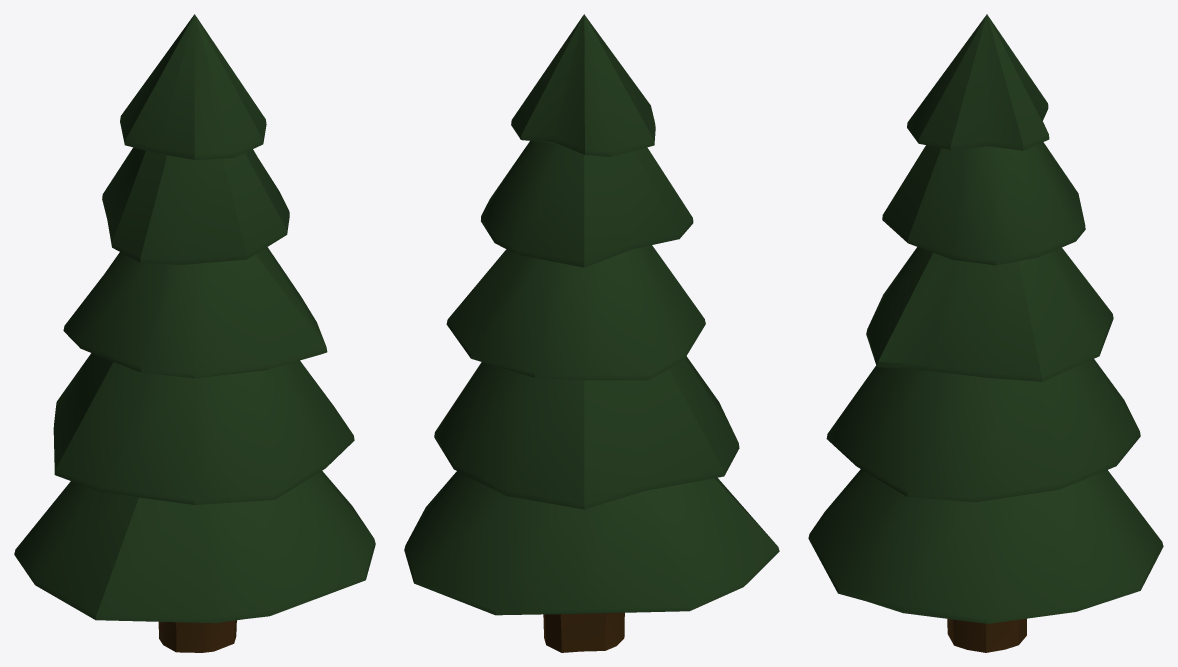
File: Gran_noir.fbx
The picture shows the model from 3 angles, left to right: view 1: azimuth 30°, elevation 25°; view 2: azimuth 150°, elevation 25°; view 3: azimuth 270°, elevation 25°; orthographic projection.
Visible parts, largest first — view 1: Treeeeeeeeeee; view 2: Treeeeeeeeeee; view 3: Treeeeeeeeeee.
Boxes of the visible parts, x1,y1,x2,y2 form: Treeeeeeeeeee: [14, 14, 375, 652]; Treeeeeeeeeee: [404, 14, 779, 652]; Treeeeeeeeeee: [808, 14, 1163, 652].
Bounding box in the file's own units: 188 × 351 × 182.
